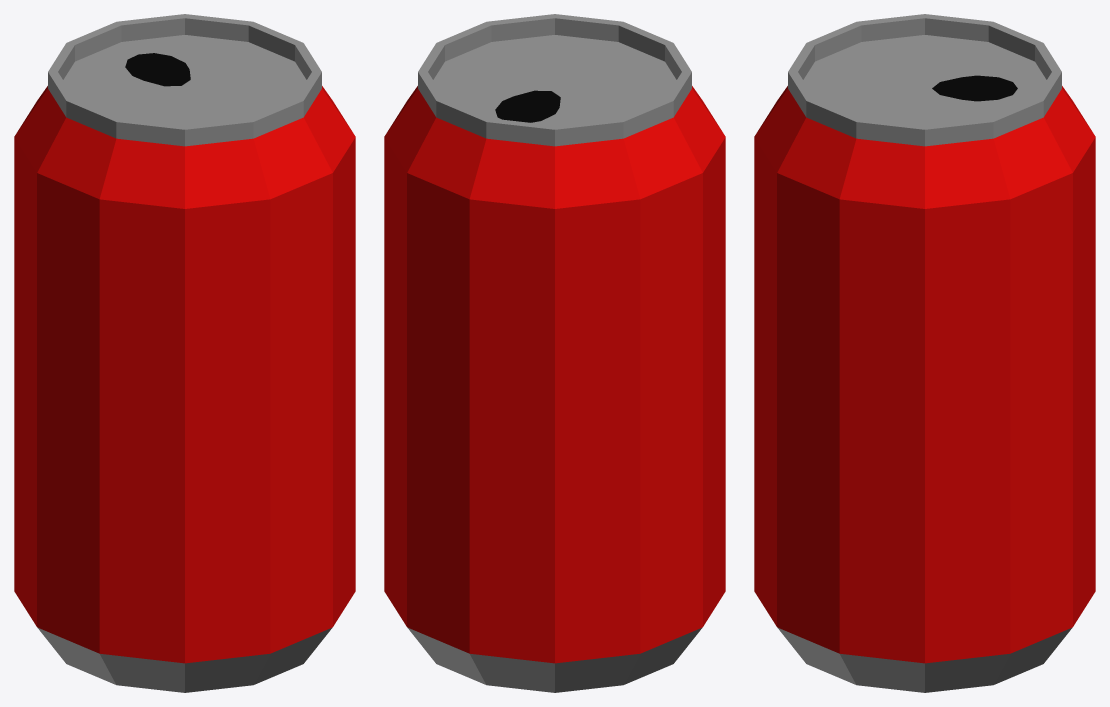
File: Can.fbx
3 views of the same model, side by side, from view 1: azimuth 30°, elevation 25°; view 2: azimuth 150°, elevation 25°; view 3: azimuth 270°, elevation 25° (orthographic).
Parts seen in each view (by area): view 1: Can; view 2: Can; view 3: Can.
Boxes of the visible parts, box(x1,y1,x2,y2) form: Can: box(14, 14, 355, 692); Can: box(384, 14, 725, 692); Can: box(754, 14, 1095, 692).
Size of the model in its own units: 0.0672 by 0.0672 by 0.1222.
